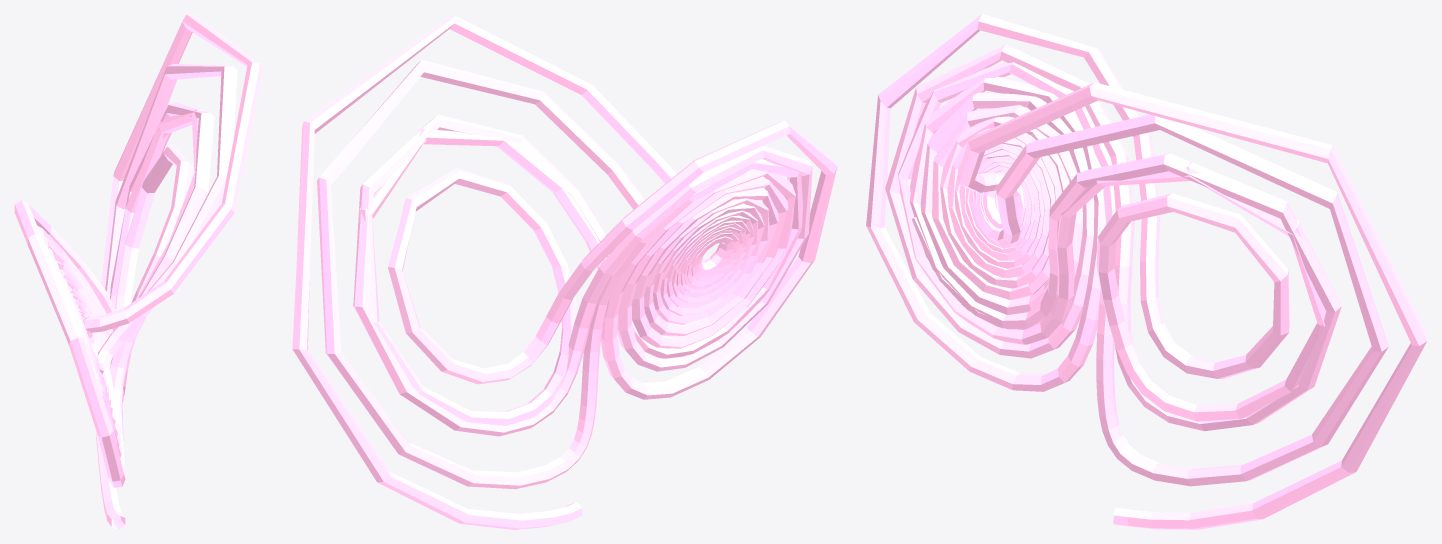
Rendered from gen0443-thermal-late.glb.
3 views of the same model, side by side, from view 1: azimuth 30°, elevation 25°; view 2: azimuth 150°, elevation 25°; view 3: azimuth 270°, elevation 25° (orthographic). The views are drawn at different scales.
Parts seen in each view (by area): view 1: attractor; view 2: attractor; view 3: attractor.
Boxes of the visible parts, bbox=[...] form: attractor: bbox=[14, 14, 263, 529]; attractor: bbox=[292, 14, 837, 529]; attractor: bbox=[866, 14, 1427, 529].
Size of the model in its own units: 0.1746 by 0.2313 by 0.2294.
